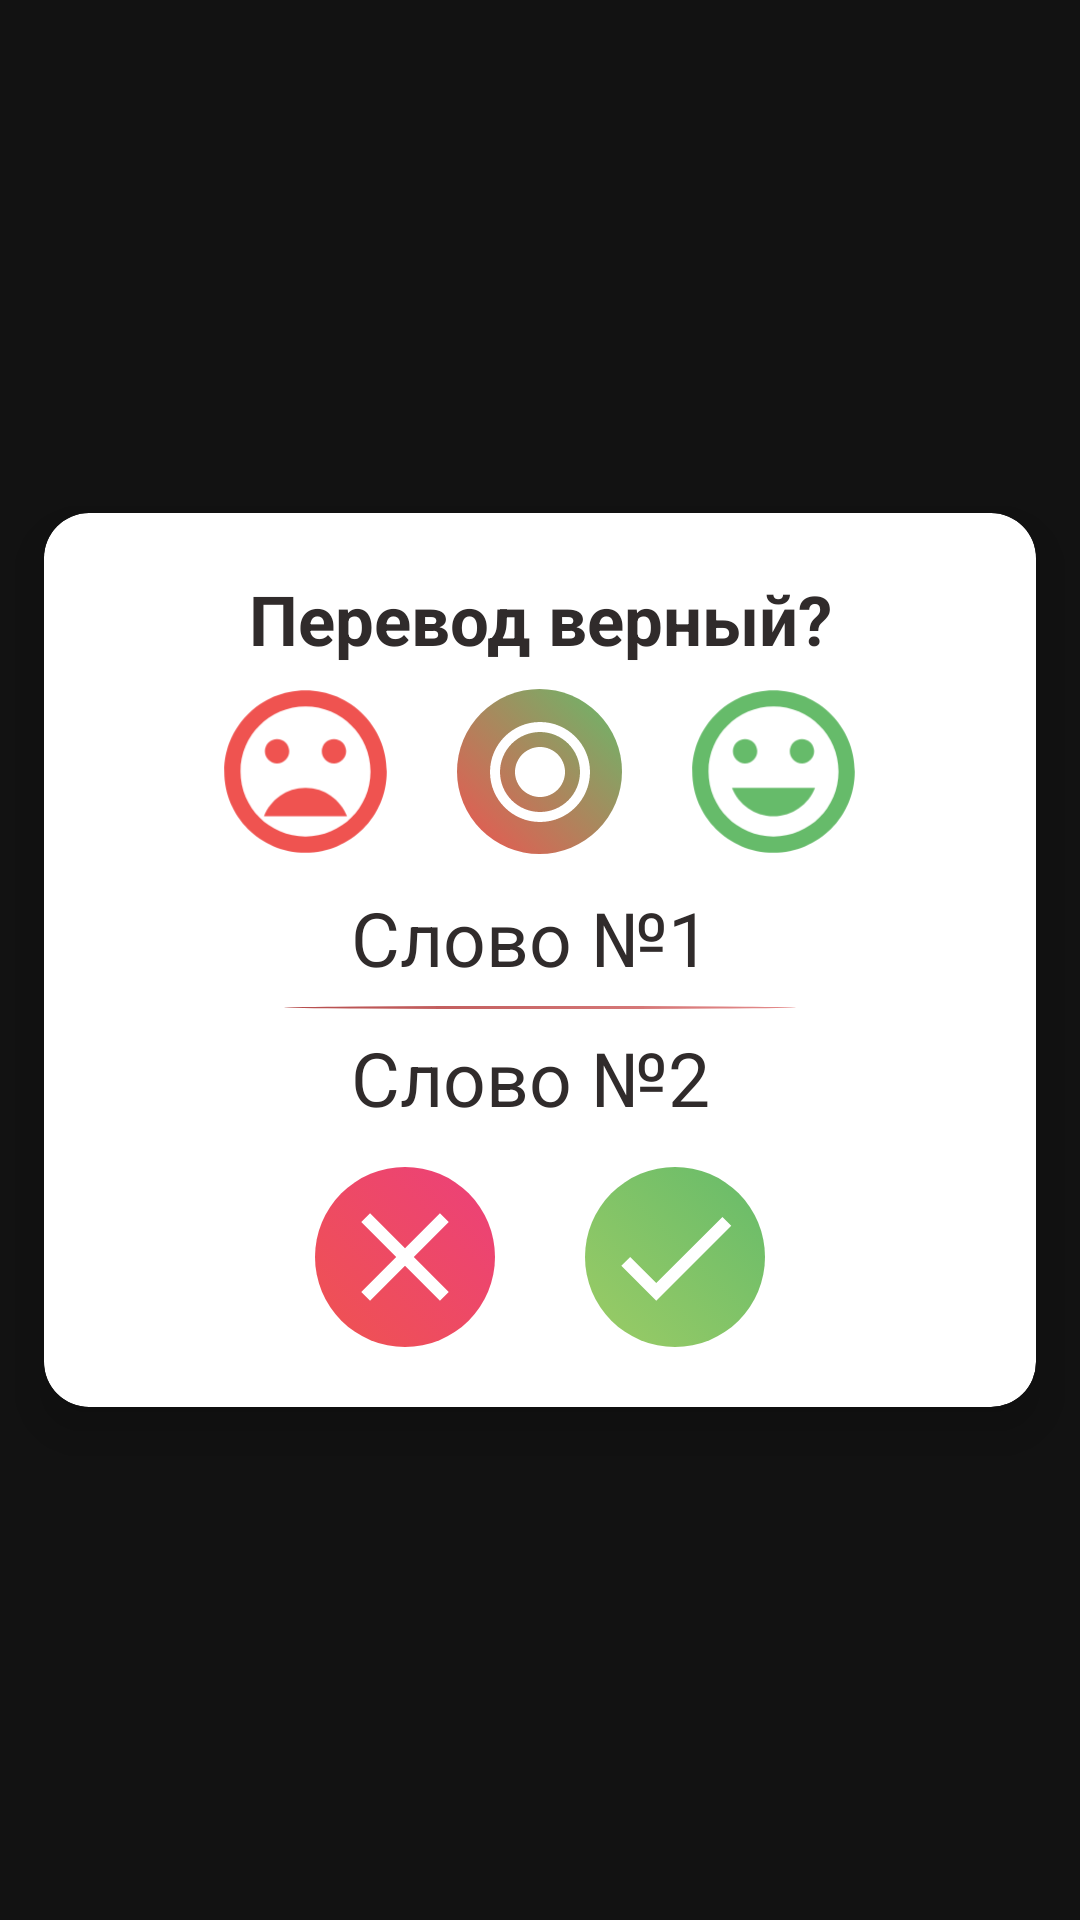

Screen size 1080×1920. Icon name, then its center in pixels as (x,y):
good smile: (773,771)
pic circle: (539,771)
wrong smile: (305,771)
